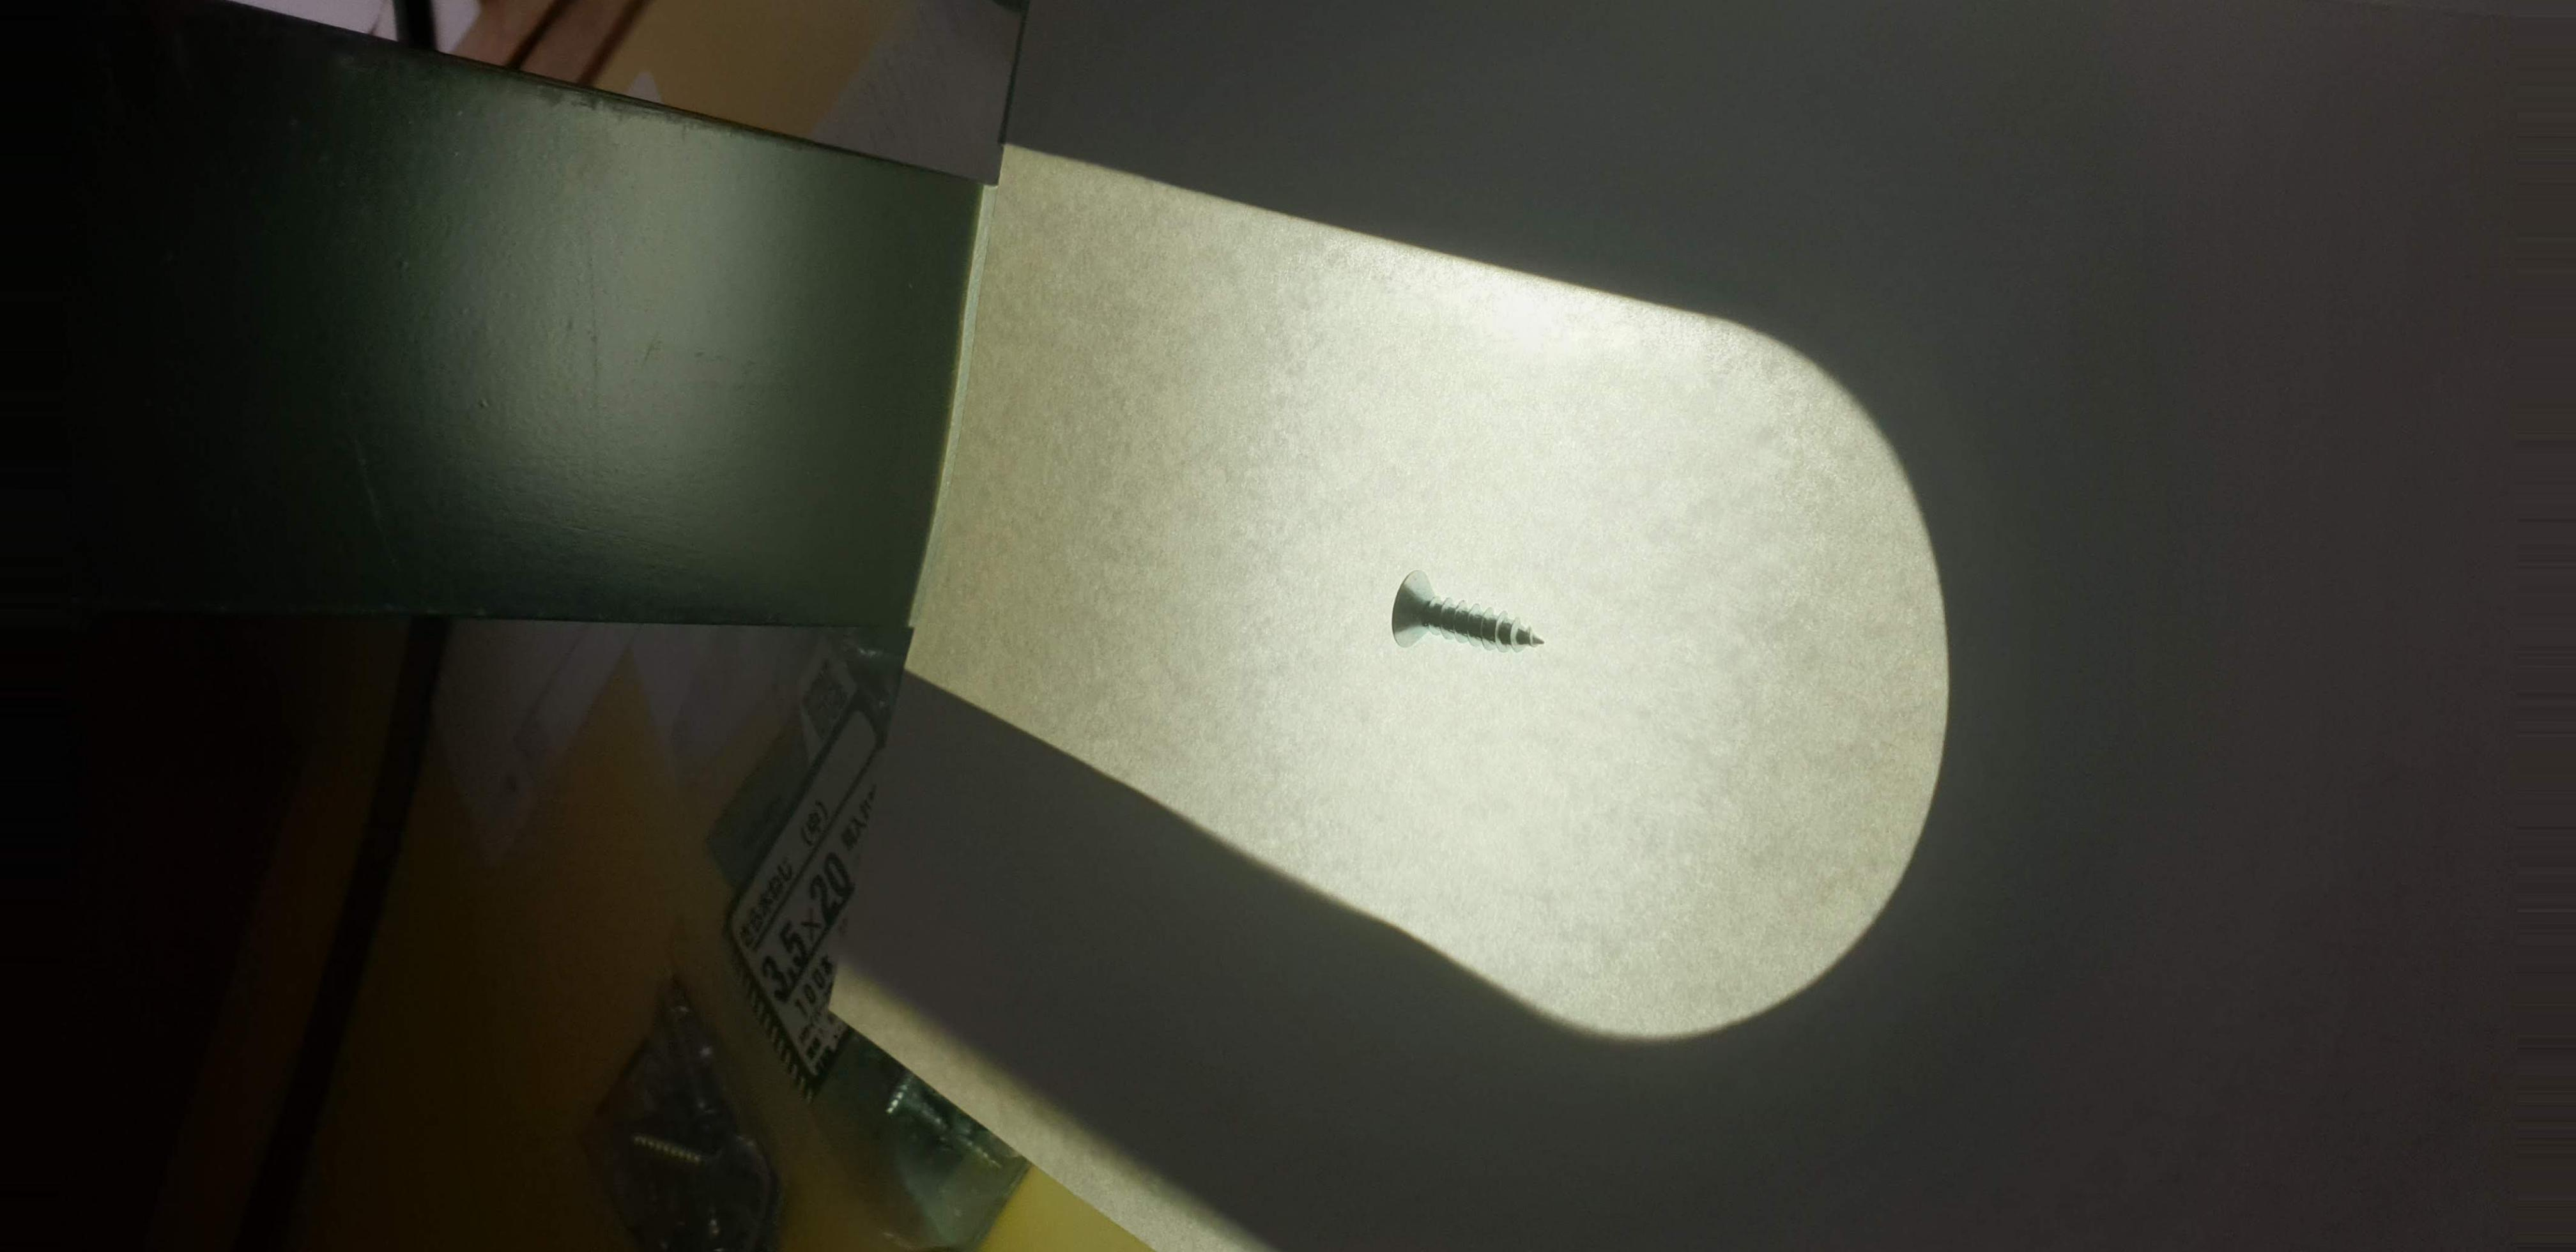S003: (1354, 545, 1572, 685)
